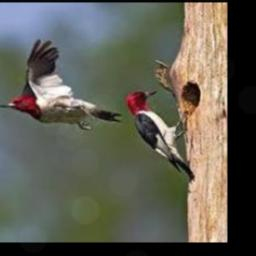Woodpecker: (0, 38, 122, 129), (124, 89, 194, 181)
